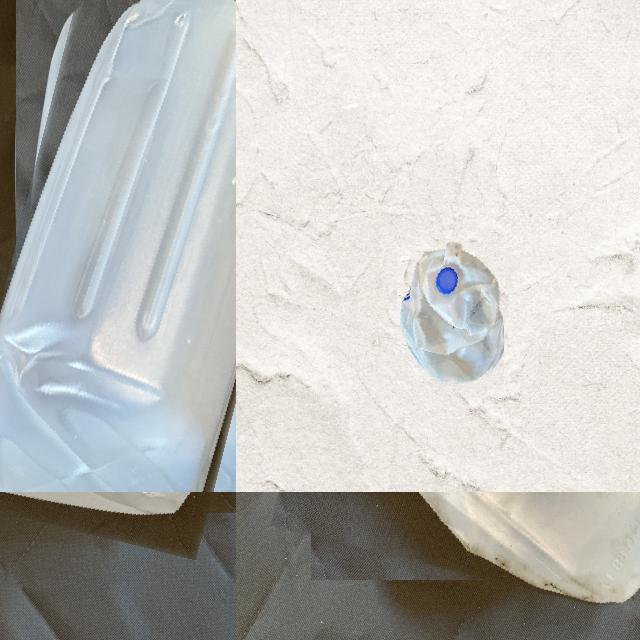milk-jug: (0, 0, 236, 492), (291, 492, 640, 601), (389, 237, 512, 394), (0, 492, 236, 536)
